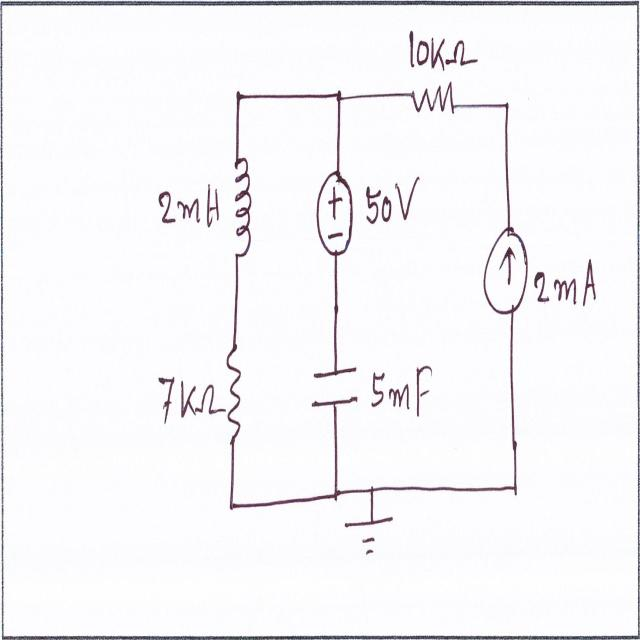capacitor: (305, 361, 360, 415)
current_source: (479, 220, 533, 328)
ground: (342, 507, 395, 565)
inductor: (229, 149, 255, 271)
resistor: (222, 336, 246, 454), (406, 78, 457, 122)
voltage_source: (313, 166, 356, 268)
